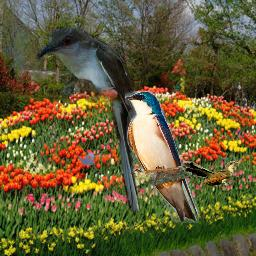Cuckoo: (36, 26, 149, 211), (182, 161, 239, 186)
Swallow: (125, 91, 199, 223)
